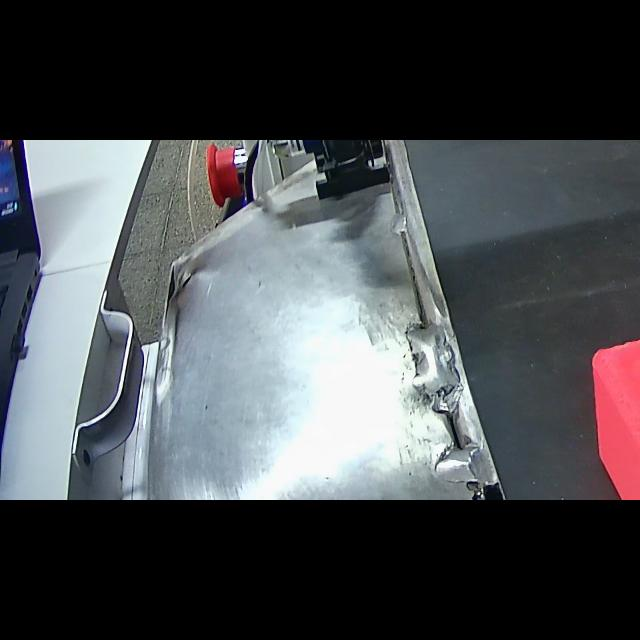redBox: (584, 298, 640, 500)
